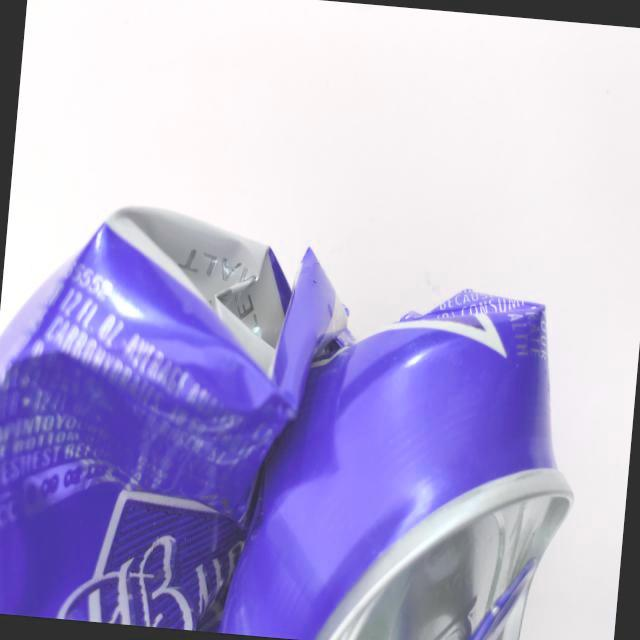metal: (0, 171, 604, 640)
